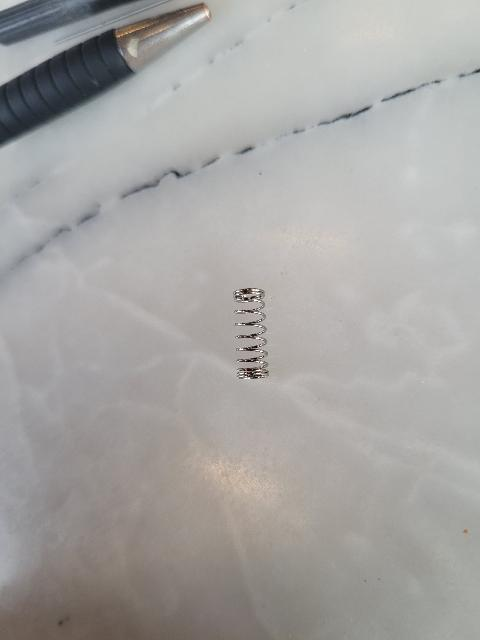Metal: (233, 280, 276, 381)
